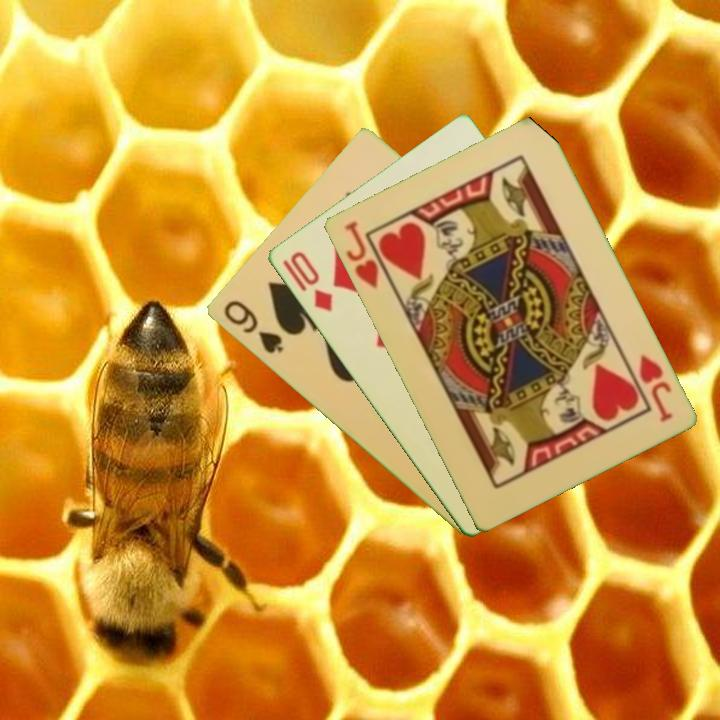10d: (286, 247, 335, 315)
9s: (219, 296, 286, 357)
Jh: (634, 350, 675, 426), (340, 217, 381, 292)
